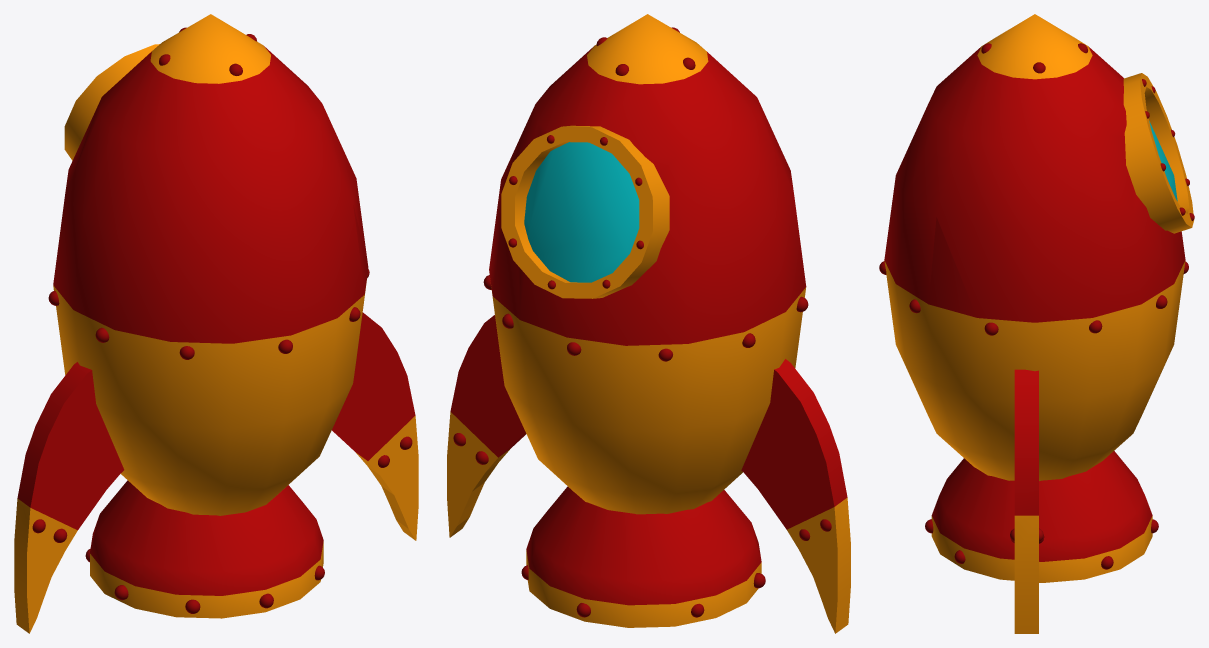
File: Rocket.obj
3 renders of one model, left to right at view 1: azimuth 30°, elevation 25°; view 2: azimuth 150°, elevation 25°; view 3: azimuth 270°, elevation 25°, orthographic. The views are drawn at different scales.
Visible parts, largest first — view 1: Sphere, Cylinder, Plane, Plane.1, Tube; view 2: Sphere, Cylinder, Plane, Tube, Plane.1; view 3: Sphere, Cylinder, Tube, Plane.1.
Boxes of the visible parts, x1,y1,x2,y2 form: Sphere: [53, 14, 368, 515]; Cylinder: [90, 480, 323, 618]; Plane: [14, 362, 124, 633]; Plane.1: [332, 312, 418, 540]; Tube: [64, 44, 159, 160]; Sphere: [489, 14, 806, 514]; Cylinder: [526, 486, 761, 627]; Plane: [741, 359, 850, 633]; Tube: [501, 125, 669, 298]; Plane.1: [447, 315, 526, 537]; Sphere: [884, 14, 1185, 480]; Cylinder: [931, 451, 1152, 582]; Tube: [1123, 73, 1194, 233]; Plane.1: [1014, 369, 1038, 633].
Bounding box in the file's own units: 517 × 718 × 387.
